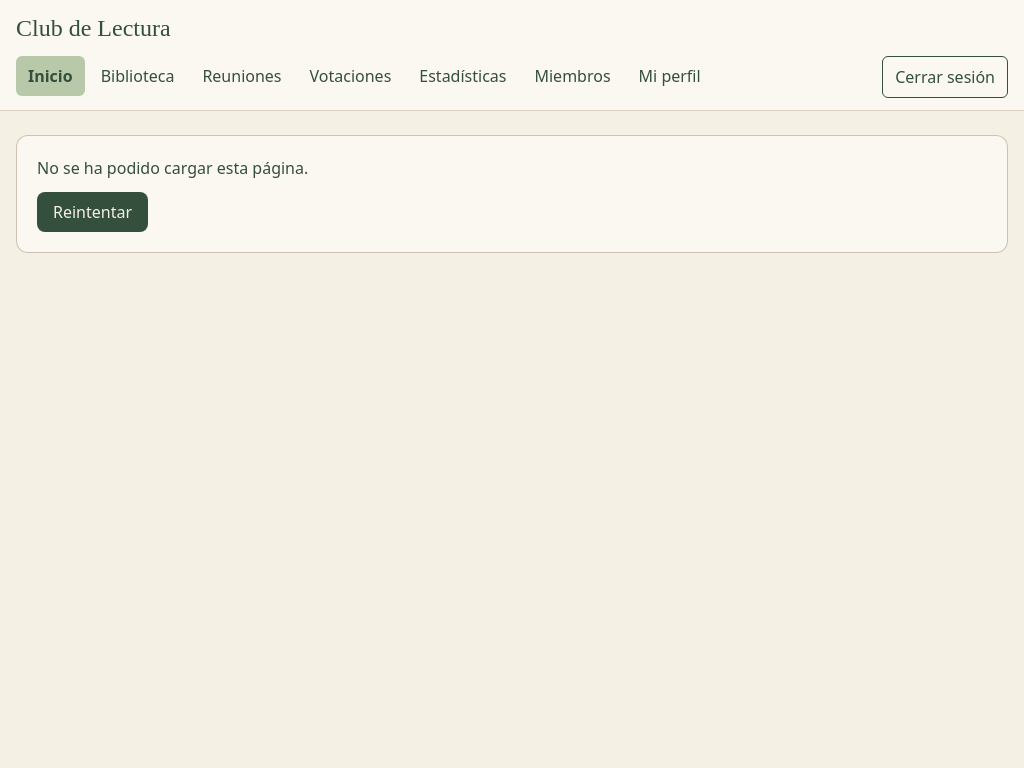
Scenario: session gate using the HTTP session adapters › keeps the member shell when the native homepage fails, then logs out and rechecks session
Expected: the navigation bar named "Principal" is shown, [16, 56, 713, 96]
Expected: the button "Reintentar" is shown, [37, 192, 148, 232]
Click the button "Cerrar sesión" at (945, 77), box [882, 56, 1008, 98]
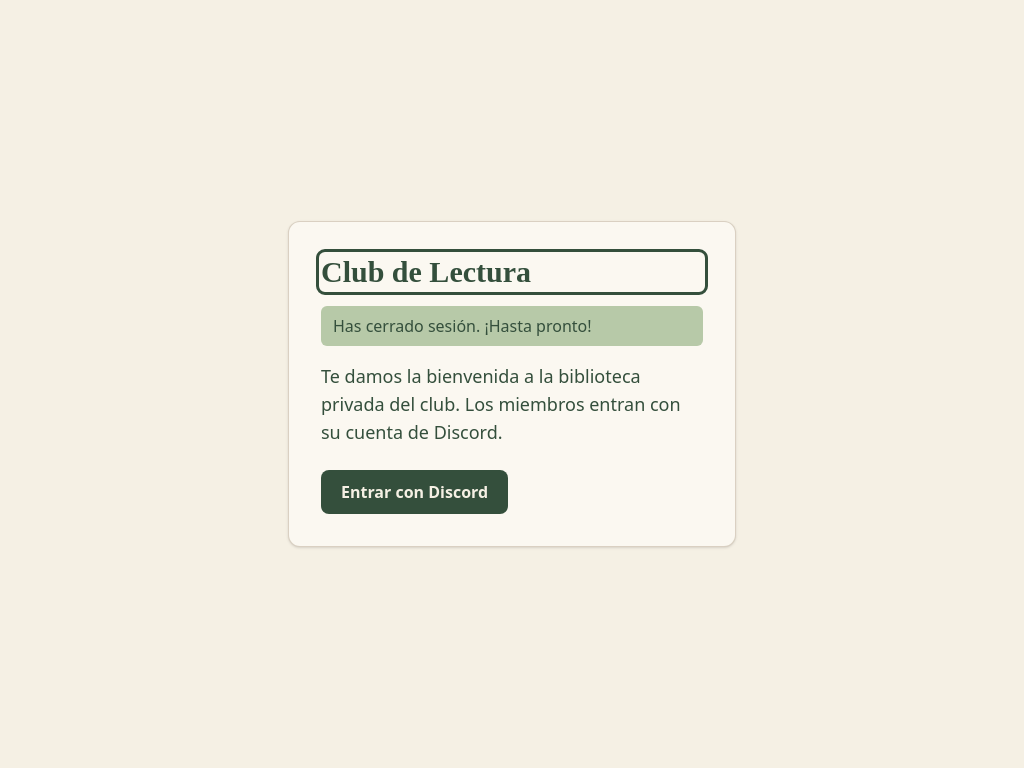
Expected: the button "Entrar con Discord" is shown, [321, 470, 508, 514]
Expected: the message reads "Has cerrado sesión. ¡Hasta pronto!", [333, 315, 592, 337]
Expected: the navigation bar "Principal" is gone
